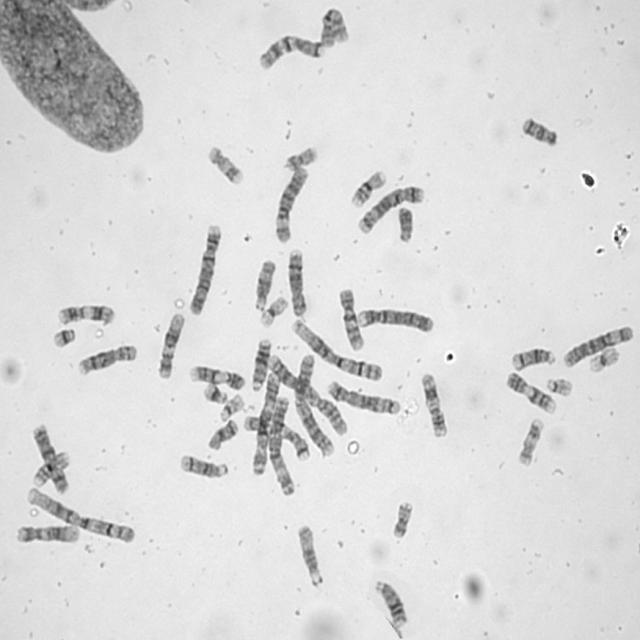A1: (24, 483, 137, 545), (290, 316, 384, 383)
A2: (266, 351, 349, 437), (275, 350, 336, 457)
A3: (249, 368, 282, 478), (266, 395, 298, 498)
B4: (186, 220, 223, 316), (354, 304, 436, 334)
B5: (354, 182, 427, 236), (324, 376, 402, 416)
C10: (336, 284, 366, 352), (320, 7, 350, 51)
C11: (418, 369, 448, 438), (54, 300, 118, 327)
C12: (155, 310, 186, 381), (13, 522, 81, 544)
C6: (561, 322, 635, 370), (271, 162, 310, 245)
C7: (241, 412, 312, 461), (256, 30, 326, 70)
C8: (74, 340, 139, 378), (286, 246, 308, 318)
C9: (503, 368, 559, 416), (186, 361, 246, 392)
D13: (372, 576, 408, 628), (248, 335, 273, 393)
D14: (177, 451, 229, 480), (508, 343, 558, 372)
D15: (295, 521, 322, 586), (251, 257, 277, 312)
E16: (347, 168, 388, 210), (29, 448, 71, 488)
E17: (204, 140, 245, 188), (515, 415, 545, 467)
E18: (519, 112, 559, 148), (205, 415, 240, 452)
F19: (257, 294, 290, 330), (586, 343, 622, 375)
F20: (389, 498, 414, 540), (282, 144, 319, 172)
G21: (49, 324, 78, 350), (201, 379, 229, 405)
G22: (216, 390, 246, 421), (544, 374, 574, 398)
X: (30, 421, 70, 495)
Y: (395, 203, 415, 243)
